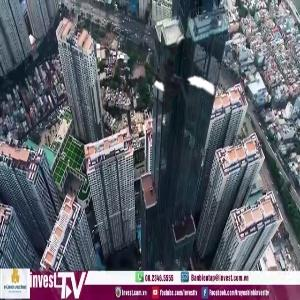drone: (133, 38, 224, 129)
